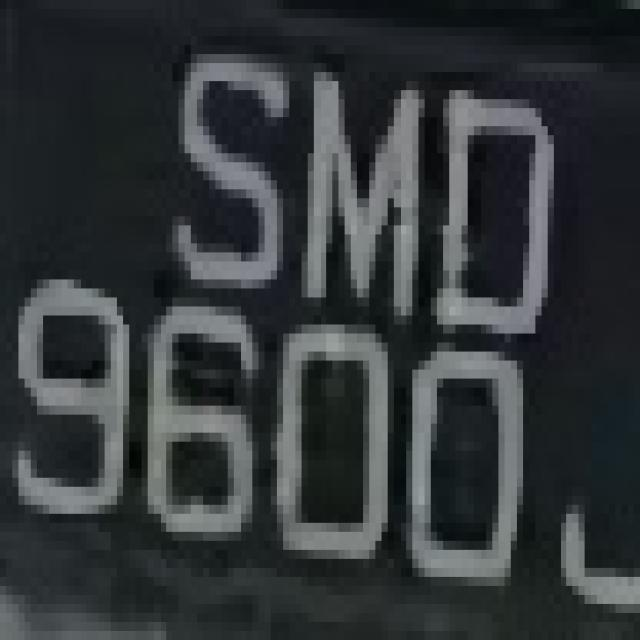0: (271, 270, 394, 604), (394, 333, 529, 604)
6: (142, 261, 264, 559)
9: (19, 234, 130, 604)
D: (418, 72, 560, 352)
J: (5, 5, 6, 8)
M: (302, 72, 424, 298)
S: (167, 9, 296, 325)
